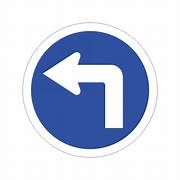left: (20, 22, 159, 158)
